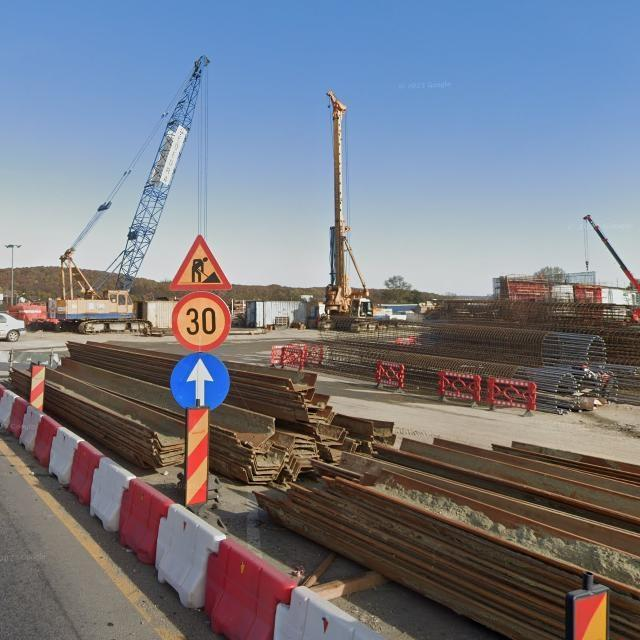forb_speed_over_30: (172, 291, 232, 351)
